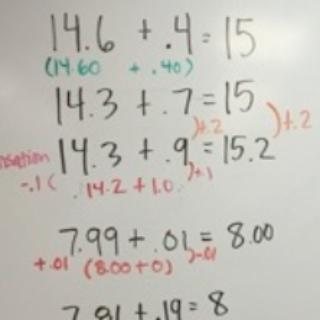.: (83, 43, 91, 52), (163, 41, 172, 49)
1: (47, 8, 60, 52), (222, 14, 234, 61)
2: (253, 135, 278, 160)
4: (172, 9, 197, 54), (61, 7, 84, 54)
5: (233, 16, 258, 59), (233, 78, 256, 115), (230, 134, 247, 163)
6: (95, 10, 116, 55)
7: (172, 84, 194, 116)
8: (224, 219, 246, 250)
9: (101, 225, 122, 257), (83, 224, 103, 255), (173, 135, 190, 166)
